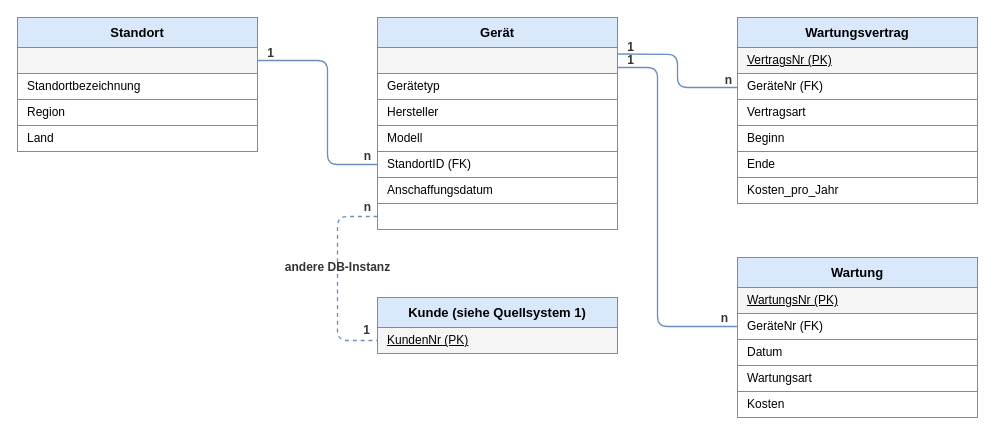
Image size: 995x435. Some labels were removed from this diagram. Here are the shapes that lost their labels. From the top down, the centre of each, then its label:
At (137,60): "StandortID (PK)".
At (497,60): "GeräteNr (PK)".
At (497,216): "KundenNr".
